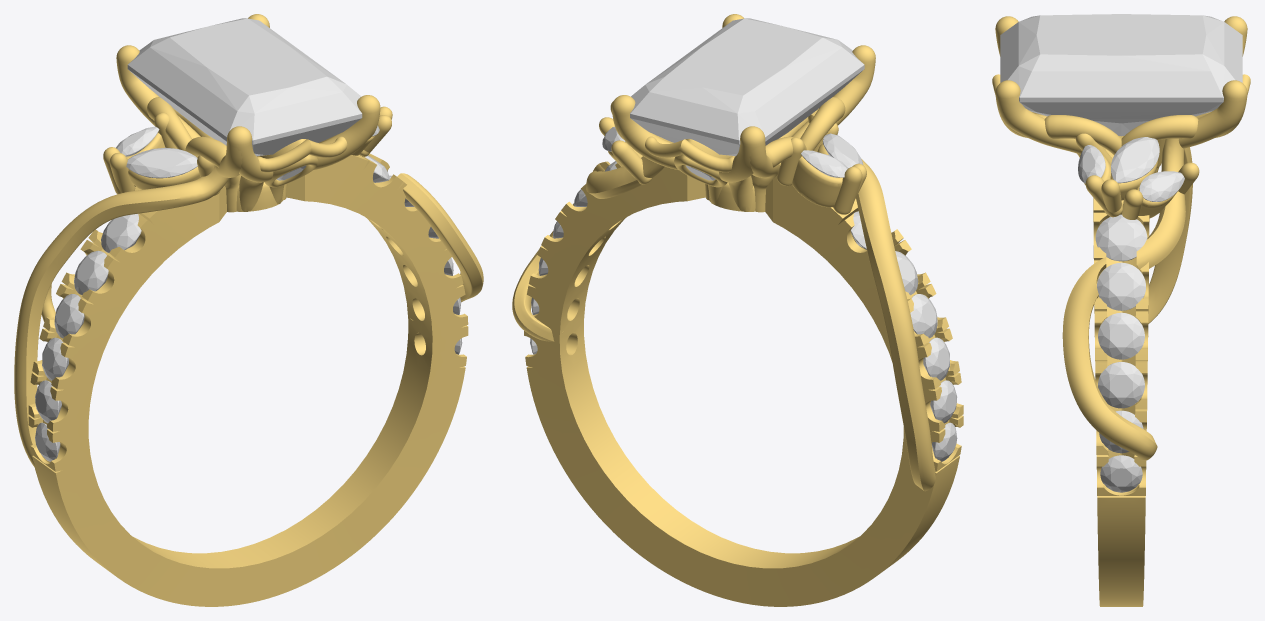
The model's file is StephanV5ygENG_blender.glb.
The picture shows the model from 3 angles, left to right: view 1: azimuth 30°, elevation 25°; view 2: azimuth 150°, elevation 25°; view 3: azimuth 270°, elevation 25°; orthographic projection. The views are drawn at different scales.
Parts seen in each view (by area): view 1: V5 Stephan YG for 3d model, V5 Stephan center dia for 3d model, V5 Stephan side dia for 3d model.003, V5 Stephan round dia for 3d model.006, V5 Stephan round dia for 3d model.007, V5 Stephan round dia for 3d model.008, V5 Stephan round dia for 3d model.009, V5 Stephan round dia for 3d model.010, V5 Stephan side dia for 3d model.002; view 2: V5 Stephan YG for 3d model, V5 Stephan center dia for 3d model, V5 Stephan round dia for 3d model.008, V5 Stephan round dia for 3d model.009, V5 Stephan side dia for 3d model.003, V5 Stephan round dia for 3d model.010, V5 Stephan side dia for 3d model.002, V5 Stephan round dia for 3d model.011; view 3: V5 Stephan YG for 3d model, V5 Stephan center dia for 3d model, V5 Stephan round dia for 3d model.004, V5 Stephan round dia for 3d model.005, V5 Stephan round dia for 3d model.003, V5 Stephan round dia for 3d model.002, V5 Stephan side dia for 3d model.006, V5 Stephan round dia for 3d model, V5 Stephan side dia for 3d model.004, V5 Stephan side dia for 3d model.005, V5 Stephan round dia for 3d model.001.
Part boxes in pixels (x1,y1,x2,y2): V5 Stephan YG for 3d model: (14, 14, 483, 606); V5 Stephan center dia for 3d model: (127, 18, 362, 156); V5 Stephan side dia for 3d model.003: (126, 147, 197, 178); V5 Stephan round dia for 3d model.006: (101, 214, 141, 252); V5 Stephan round dia for 3d model.007: (74, 250, 108, 294); V5 Stephan round dia for 3d model.008: (54, 294, 84, 338); V5 Stephan round dia for 3d model.009: (42, 337, 68, 380); V5 Stephan round dia for 3d model.010: (35, 380, 61, 423); V5 Stephan side dia for 3d model.002: (116, 126, 159, 156); V5 Stephan YG for 3d model: (512, 14, 963, 606); V5 Stephan center dia for 3d model: (630, 18, 864, 156); V5 Stephan round dia for 3d model.008: (910, 294, 937, 338); V5 Stephan round dia for 3d model.009: (923, 337, 949, 380); V5 Stephan side dia for 3d model.003: (822, 133, 863, 168); V5 Stephan round dia for 3d model.010: (930, 380, 957, 423); V5 Stephan side dia for 3d model.002: (801, 150, 847, 177); V5 Stephan round dia for 3d model.011: (932, 422, 957, 461); V5 Stephan YG for 3d model: (992, 16, 1250, 606); V5 Stephan center dia for 3d model: (1000, 14, 1242, 136); V5 Stephan round dia for 3d model.004: (1097, 262, 1145, 310); V5 Stephan round dia for 3d model.005: (1095, 214, 1147, 261); V5 Stephan round dia for 3d model.003: (1098, 312, 1144, 359); V5 Stephan round dia for 3d model.002: (1098, 362, 1144, 408); V5 Stephan side dia for 3d model.006: (1111, 137, 1159, 183); V5 Stephan round dia for 3d model: (1100, 455, 1142, 492); V5 Stephan side dia for 3d model.004: (1139, 171, 1184, 201); V5 Stephan side dia for 3d model.005: (1078, 145, 1105, 183); V5 Stephan round dia for 3d model.001: (1099, 410, 1143, 453).
Size of the model in its own units: 21.86 by 25.83 by 11.03.
